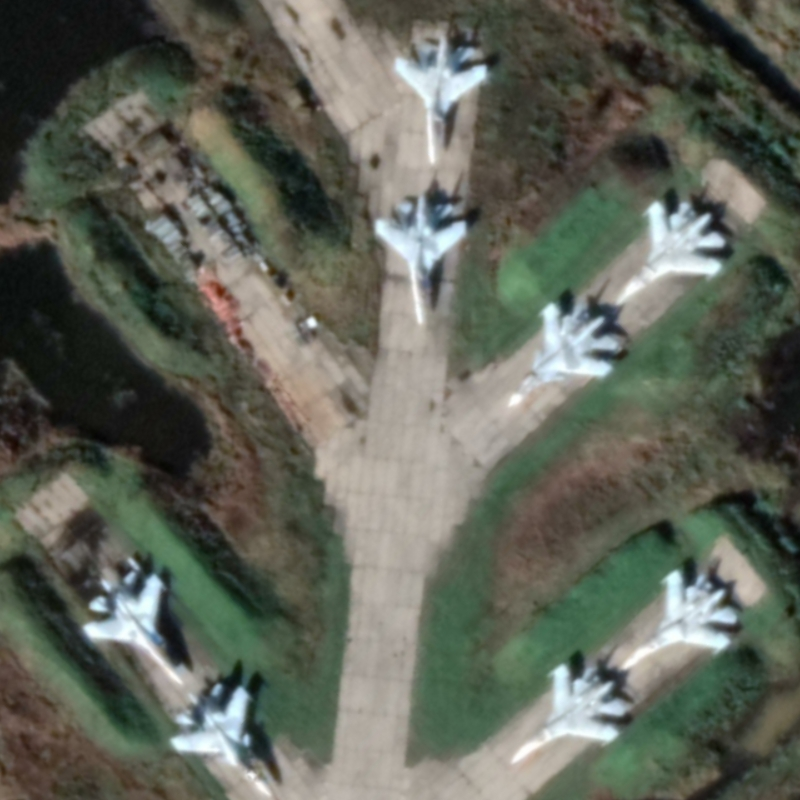A1: (616, 567, 741, 676), (371, 194, 470, 328), (392, 33, 490, 167), (506, 660, 628, 767), (81, 567, 188, 689), (613, 198, 729, 308)
A19: (167, 681, 278, 800), (505, 300, 622, 409)
